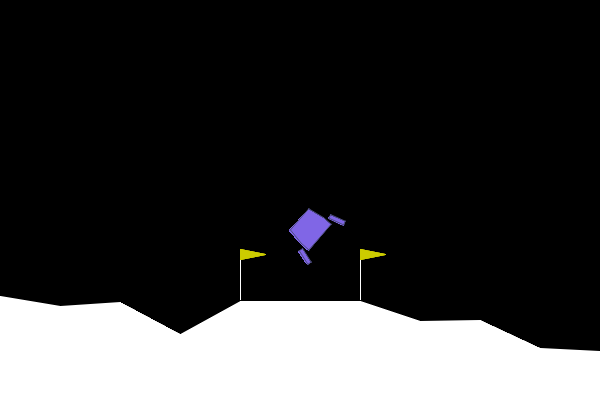lander: (278, 196, 347, 267)
